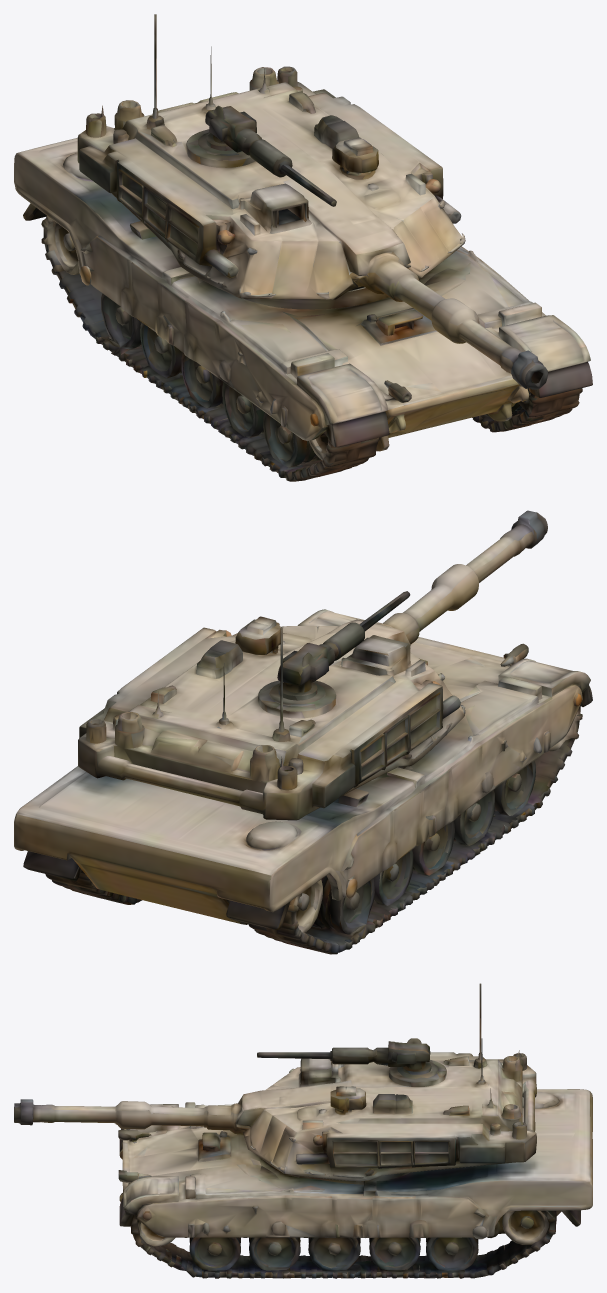
The model's file is abr_opt.glb.
3 views of the same model, one above another, from view 1: azimuth 30°, elevation 25°; view 2: azimuth 150°, elevation 25°; view 3: azimuth 270°, elevation 25° (orthographic). The views are drawn at different scales.
Parts seen in each view (by area): view 1: node_0; view 2: node_0; view 3: node_0.
Part boxes in pixels (x1,y1,x2,y2): node_0: [14, 14, 592, 481]; node_0: [14, 510, 592, 954]; node_0: [14, 983, 592, 1278].
Bounding box in the file's own units: 0.4417 × 0.4852 × 1.12.
1 material, 1 textured.
